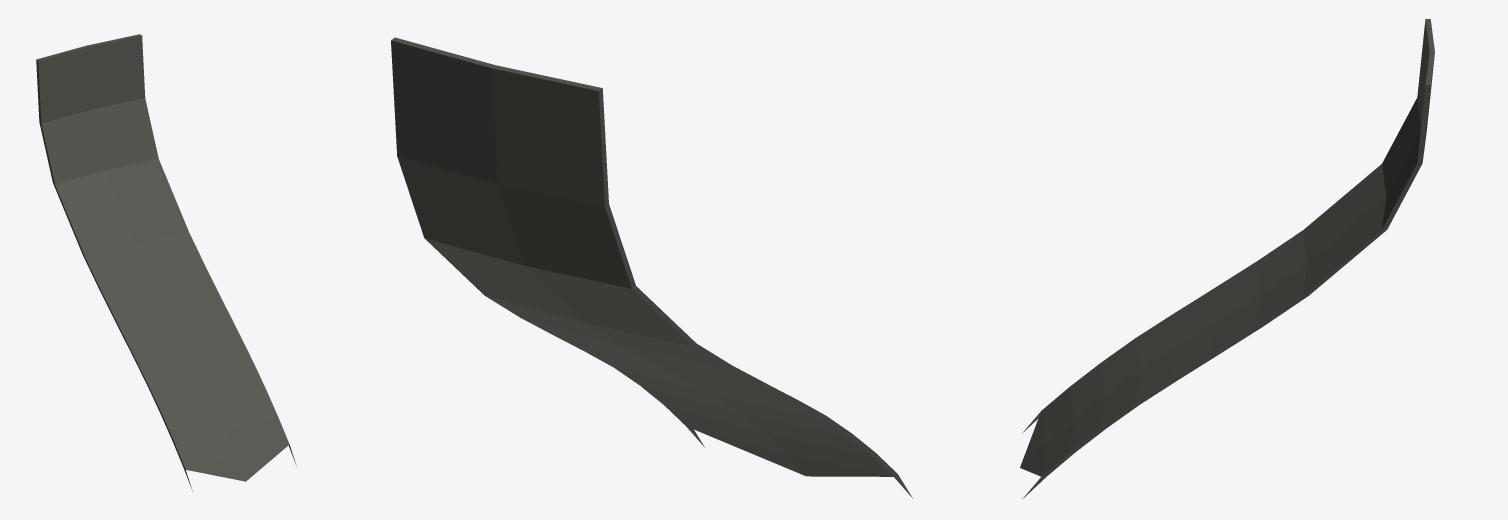
3 renders of one model, left to right at view 1: azimuth 30°, elevation 25°; view 2: azimuth 150°, elevation 25°; view 3: azimuth 270°, elevation 25°, orthographic. The views are drawn at different scales.
Bounding box in the file's own units: 0.508 × 1.31 × 1.43.
